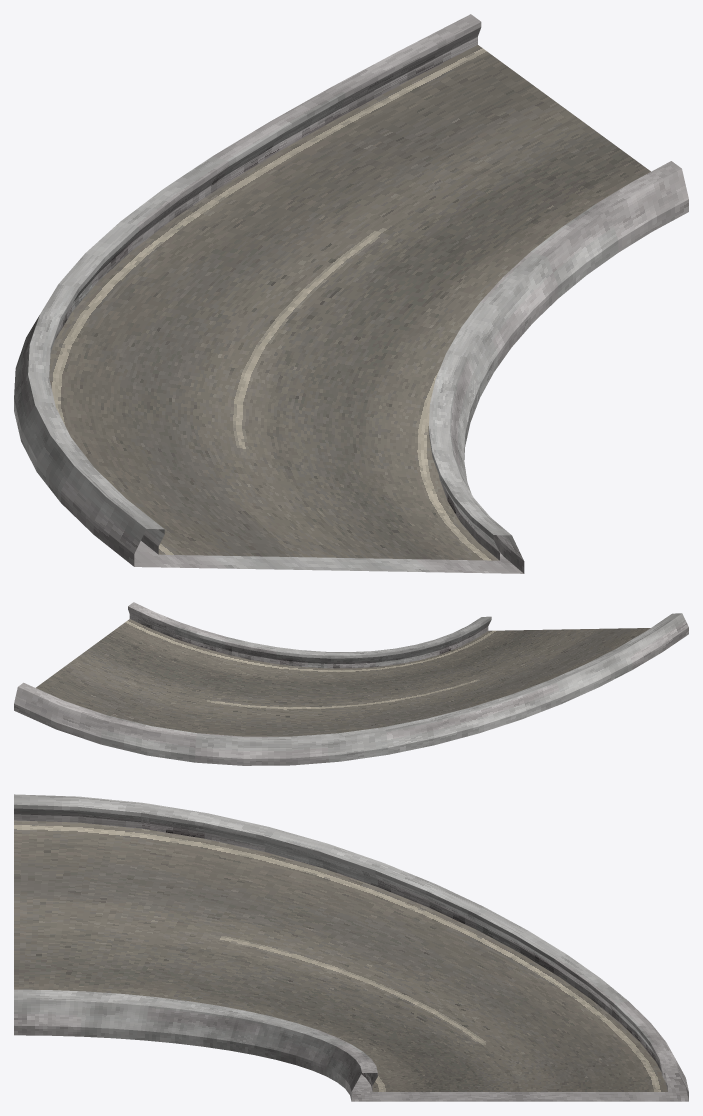
File: turn-right2x2.glb
The picture shows the model from 3 angles, top to bottom: view 1: azimuth 30°, elevation 25°; view 2: azimuth 150°, elevation 25°; view 3: azimuth 270°, elevation 25°; orthographic projection. The views are drawn at different scales.
Visible parts, largest first — view 1: road-Turn-HalfBankedRight-BiSlopeUp-Up1-Right-Size2; view 2: road-Turn-HalfBankedRight-BiSlopeUp-Up1-Right-Size2; view 3: road-Turn-HalfBankedRight-BiSlopeUp-Up1-Right-Size2.
Part boxes in pixels (bbox=[...]): road-Turn-HalfBankedRight-BiSlopeUp-Up1-Right-Size2: bbox=[14, 14, 688, 573]; road-Turn-HalfBankedRight-BiSlopeUp-Up1-Right-Size2: bbox=[14, 602, 688, 765]; road-Turn-HalfBankedRight-BiSlopeUp-Up1-Right-Size2: bbox=[14, 794, 688, 1101].
Size of the model in its own units: 2 by 0.3437 by 2.
Materials: 2 (2 with a texture image).
